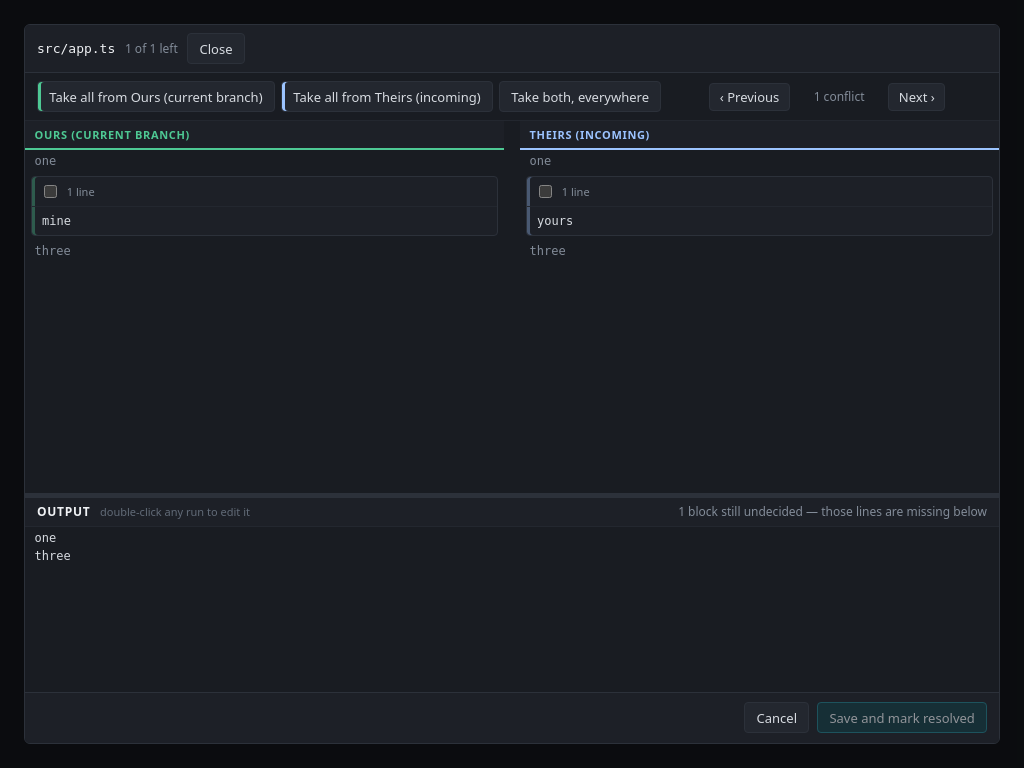
choosing blocks › puts the chosen side into the output
The image size is (1024, 768).
Click the 2nd checkbox labelled "1 line".
click(546, 192)  # box [539,185,552,198]
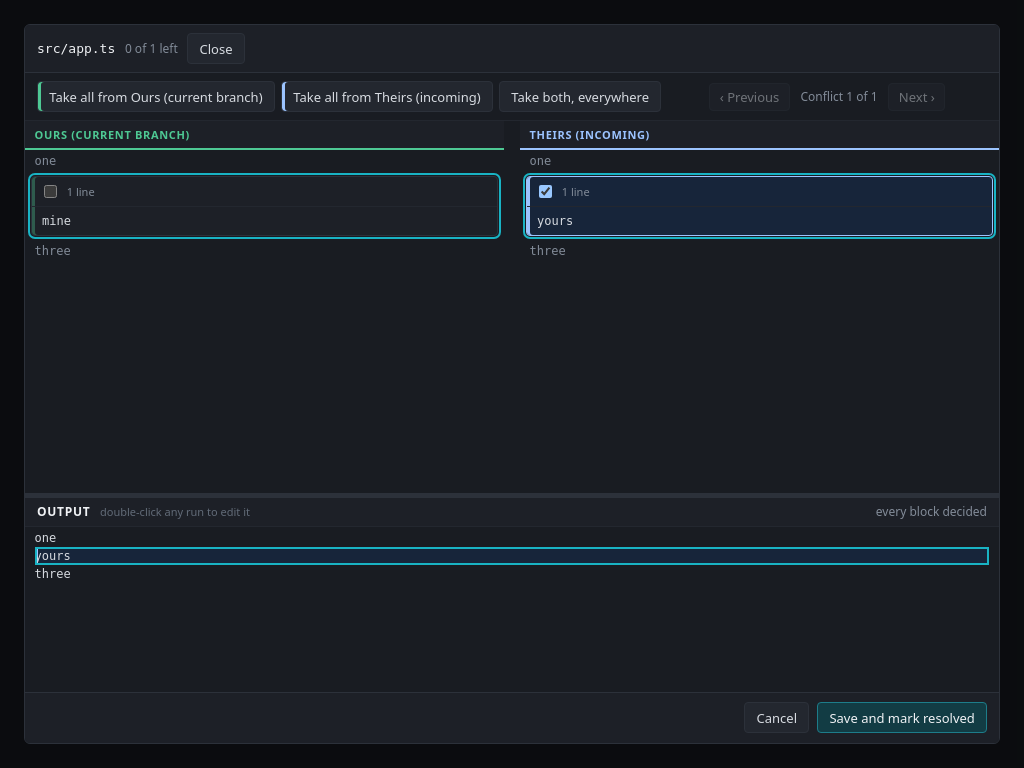
Expected: the field labelled "Output" does not show "mine"
Expected: the element labelled "Output" shows "yours", [35,549,71,563]
